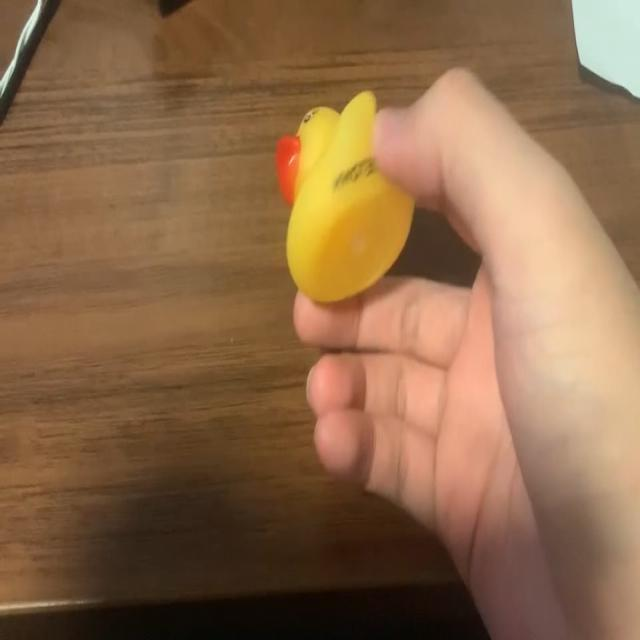rubber-duck: (286, 90, 412, 300)
